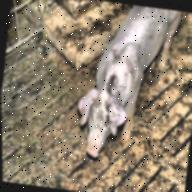boar: (70, 1, 183, 166)
